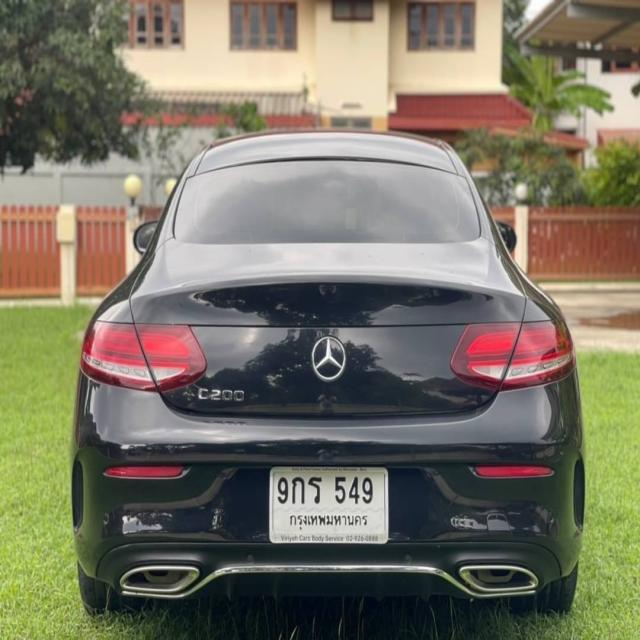license_plate: (266, 465, 394, 548)
